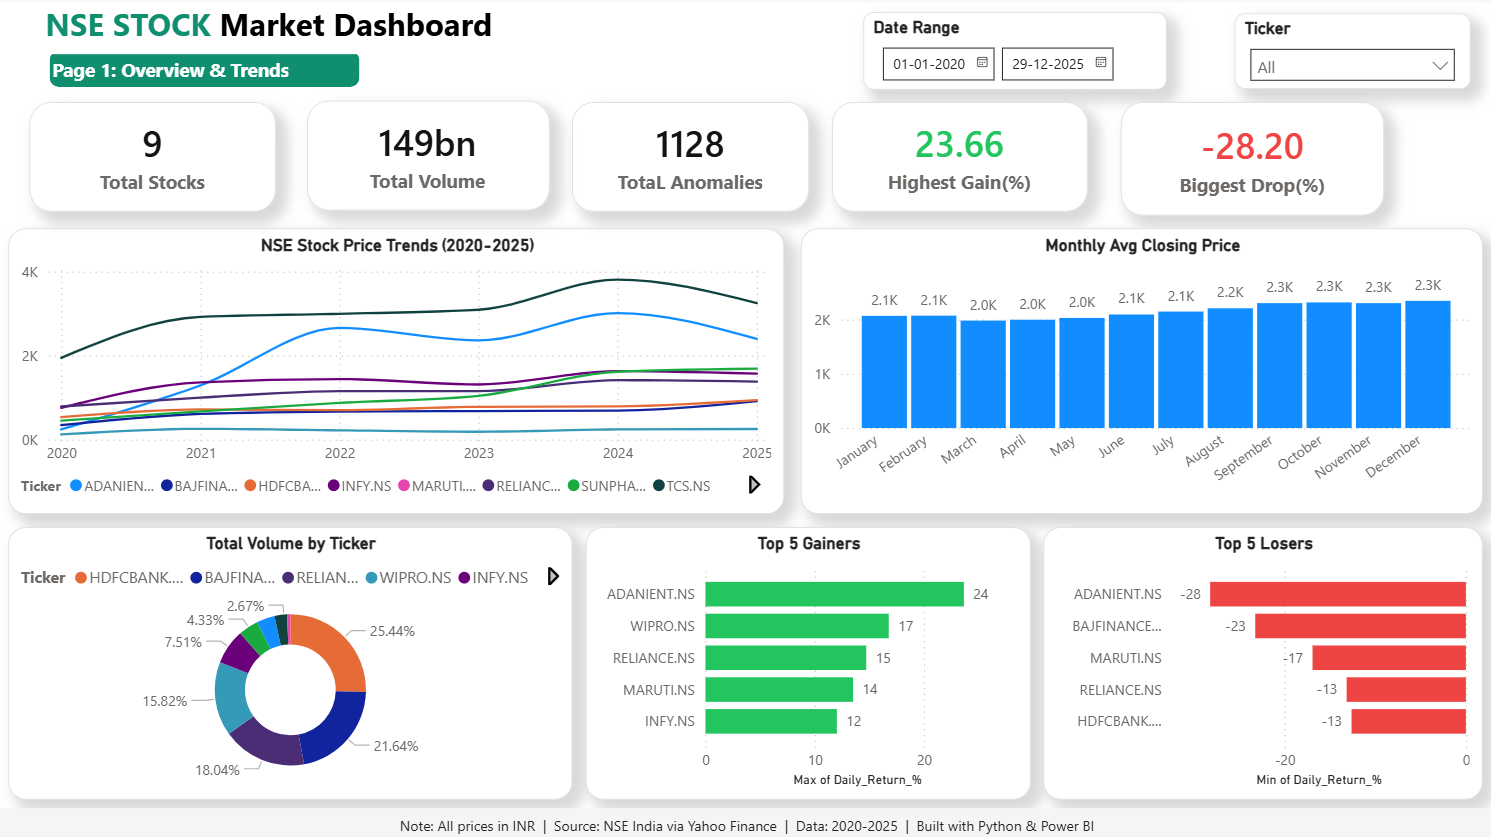

What the dashboard file says about the page in this screenshot:
{"tool":"powerbi","page":{"name":"Page 1","canvas":[1280,720],"ordinal":0},"visuals":[{"type":"lineChart","title":"NSE Stock Price Trends (2020-2025)","fields":{"Category":["cleaned_stock_data.Date.Variation.Date Hierarchy.Year","cleaned_stock_data.Date.Variation.Date Hierarchy.Quarter","cleaned_stock_data.Date.Variation.Date Hierarchy.Month","cleaned_stock_data.Date.Variation.Date Hierarchy.Day"],"Y":["Avg(cleaned_stock_data.Close)"],"Series":["cleaned_stock_data.Ticker"]},"box":[9.3,197.7,662.8,244.2],"z":0},{"type":"shape","box":[44.8,45.9,264.6,30.9],"z":2000},{"type":"slicer","title":"Ticker","fields":{"Values":["cleaned_stock_data.Ticker"]},"box":[1056.3,13.9,201.7,65.1],"z":3000},{"type":"slicer","title":"Date Range","fields":{"Values":["cleaned_stock_data.Date"]},"box":[739.4,12.8,259.3,66.2],"z":4000},{"type":"cardVisual","title":"Total Stocks","fields":{"Data":["Count(cleaned_stock_data.Ticker)"]},"box":[27.7,89.6,210.2,93.9],"z":5000},{"type":"cardVisual","fields":{"Data":["Sum(cleaned_stock_data.Volume)"]},"box":[264.6,88.6,207,93.9],"z":6000},{"type":"cardVisual","fields":{"Data":["anomalies.Total_Anomalies"]},"box":[490.8,89.6,202.7,93.9],"z":7000},{"type":"cardVisual","fields":{"Data":["Max(anomalies.Daily_Return_%)"]},"box":[712.7,89.6,218.7,93.9],"z":8000},{"type":"cardVisual","fields":{"Data":["Min(anomalies.Daily_Return_%)"]},"box":[959.2,89.6,225.1,97.1],"z":9000},{"type":"clusteredColumnChart","title":"Monthly Avg Closing Price","fields":{"Category":["monthly_summary.Month.Variation.Date Hierarchy.Month"],"Y":["Avg(monthly_summary.Avg_Close)"]},"box":[686.1,197.4,582.6,244.3],"z":10000},{"type":"donutChart","title":"Total Volume by Ticker","fields":{"Category":["cleaned_stock_data.Ticker"],"Y":["Sum(cleaned_stock_data.Volume)"]},"box":[9.6,452.4,481.2,232.6],"z":11000},{"type":"clusteredBarChart","title":"Top 5 Gainers ","fields":{"Category":["cleaned_stock_data.Ticker"],"Y":["Max(cleaned_stock_data.Daily_Return_%)"]},"box":[502.6,452.4,379.8,232.6],"z":12000},{"type":"clusteredBarChart","title":"Top 5 Losers","fields":{"Category":["cleaned_stock_data.Ticker"],"Y":["Min(cleaned_stock_data.Daily_Return_%)"]},"box":[893.1,452.4,375.6,232.6],"z":13000},{"type":"textbox","box":[0,692.5,1280.4,27.7],"z":14000},{"type":"textbox","box":[36.3,0,402.3,49.1],"z":14001}]}

Visuals, with their boxes in screenshot pixels (x1, y1, x2, y2), scaled from the page's 1280x720 canvas onto the 1491x837 screenshot:
"NSE Stock Price Trends (2020-2025)" lineChart: (11,230,783,514)
shape: (52,53,360,89)
"Ticker" slicer: (1230,16,1465,92)
"Date Range" slicer: (861,15,1163,92)
"Total Stocks" cardVisual: (32,104,277,213)
cardVisual - Sum(cleaned_stock_data.Volume): (308,103,549,212)
cardVisual - anomalies.Total_Anomalies: (572,104,808,213)
cardVisual - Max(anomalies.Daily_Return_%): (830,104,1085,213)
cardVisual - Min(anomalies.Daily_Return_%): (1117,104,1380,217)
"Monthly Avg Closing Price" clusteredColumnChart: (799,229,1478,513)
"Total Volume by Ticker" donutChart: (11,526,572,796)
"Top 5 Gainers " clusteredBarChart: (585,526,1028,796)
"Top 5 Losers" clusteredBarChart: (1040,526,1478,796)
textbox: (0,805,1490,836)
textbox: (42,0,511,57)
